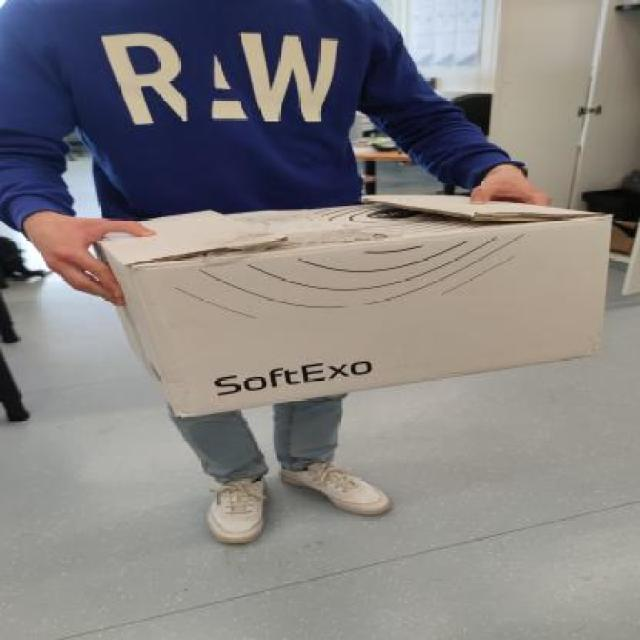box: (81, 196, 621, 410)
